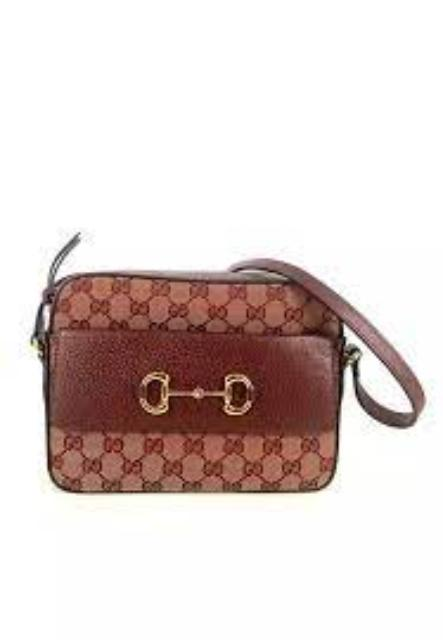Gucci: (129, 359, 273, 423)
